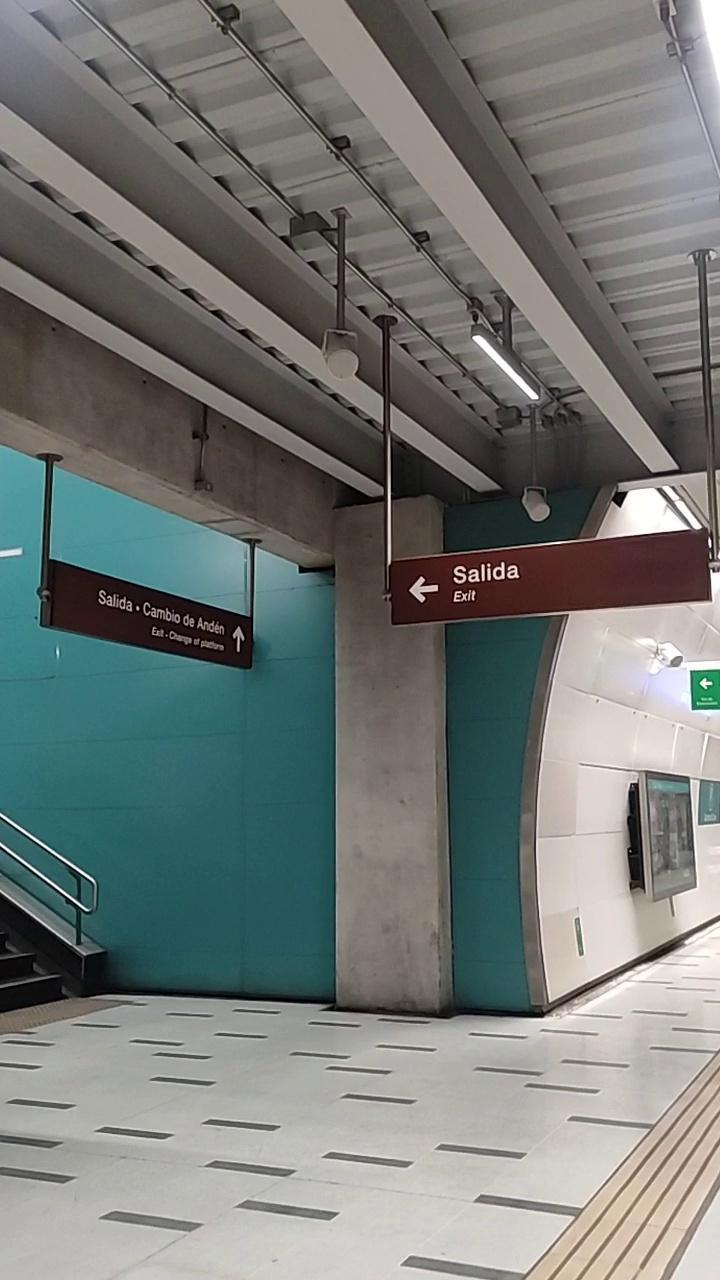left arrow: (402, 571, 446, 608)
up arrow: (227, 623, 252, 658)
